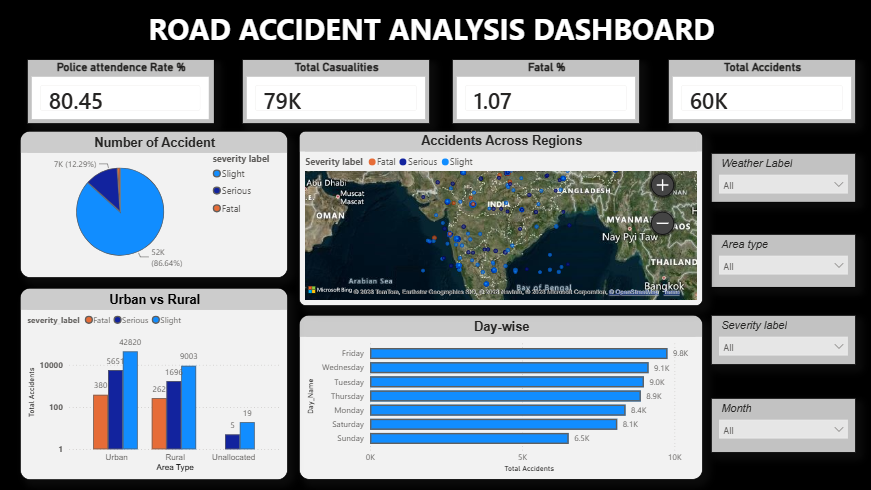

Layout of this report page (visuals, bound fields, positions):
{"tool":"powerbi","page":{"name":"Overview","canvas":[1280,720],"ordinal":0},"visuals":[{"type":"cardVisual","title":"Total Accidents","fields":{"Data":["Accident Data Analysis.Total Accidents"]},"box":[978.3,86.7,275,95],"z":0},{"type":"cardVisual","title":"Total Casualities","fields":{"Data":["Accident Data Analysis.Total Casualties"]},"box":[355,86.7,275,95],"z":1000},{"type":"cardVisual","title":"Fatal %","fields":{"Data":["Accident Data Analysis.Fatal %"]},"box":[663.3,86.7,275,95],"z":2000},{"type":"cardVisual","title":"Police attendence Rate %","fields":{"Data":["Accident Data Analysis.Police Attendance Rate"]},"box":[41,86.3,273.7,95.1],"z":3000},{"type":"pieChart","title":"Number of Accident","fields":{"Category":["Accident Data Analysis.severity_label"],"Y":["Accident Data Analysis.Total Accidents"]},"box":[30.7,191.7,392.2,215.1],"z":4000},{"type":"clusteredBarChart","title":"Day-wise","fields":{"Category":["Accident Data Analysis.Day_Name"],"Y":["Accident Data Analysis.Total Accidents"]},"box":[439,461,591.2,241.5],"z":5000},{"type":"clusteredColumnChart","title":"Urban vs Rural","fields":{"Y":["Accident Data Analysis.Total Accidents"],"Series":["Accident Data Analysis.severity_label"],"Category":["Accident Data Analysis.Area_type"]},"box":[30.7,421.5,392.2,281],"z":6000},{"type":"slicer","fields":{"Values":["Accident Data Analysis.severity_label"]},"box":[1042,461,212.2,73.2],"z":7000},{"type":"slicer","fields":{"Values":["Accident Data Analysis.Area_type"]},"box":[1042,342,212,78],"z":8000},{"type":"slicer","fields":{"Values":["Accident Data Analysis.Weather_Label"]},"box":[1041.7,223.3,211.7,71.7],"z":9000},{"type":"slicer","fields":{"Values":["Accident Data Analysis.Date.Variation.Date Hierarchy.Month"]},"box":[1042,582.4,212.2,80.5],"z":10000},{"type":"textbox","box":[0,0,1280,86.7],"z":11000},{"type":"map","title":"Accidents Across Regions","fields":{"Y":["Accident Data Analysis.latitude"],"X":["Accident Data Analysis.longitude"],"Series":["Accident Data Analysis.severity_label"],"Size":["Avg(Accident Data Analysis.Number_of_Casualties)"]},"box":[439,191.7,591.2,256.1],"z":12000}]}

Visuals, with their boxes in screenshot pixels (x1, y1, x2, y2), scaled from the page's 1280x720 canvas onto the 871x490 screenshot:
"Total Accidents" cardVisual: box=[666, 59, 853, 124]
"Total Casualities" cardVisual: box=[242, 59, 429, 124]
"Fatal %" cardVisual: box=[451, 59, 638, 124]
"Police attendence Rate %" cardVisual: box=[28, 59, 214, 123]
"Number of Accident" pieChart: box=[21, 130, 288, 277]
"Day-wise" clusteredBarChart: box=[299, 314, 701, 478]
"Urban vs Rural" clusteredColumnChart: box=[21, 287, 288, 478]
slicer - Accident Data Analysis.severity_label: box=[709, 314, 853, 364]
slicer - Accident Data Analysis.Area_type: box=[709, 233, 853, 286]
slicer - Accident Data Analysis.Weather_Label: box=[709, 152, 853, 201]
slicer - Accident Data Analysis.Date.Variation.Date Hierarchy.Month: box=[709, 396, 853, 451]
textbox: box=[0, 0, 870, 59]
"Accidents Across Regions" map: box=[299, 130, 701, 305]
